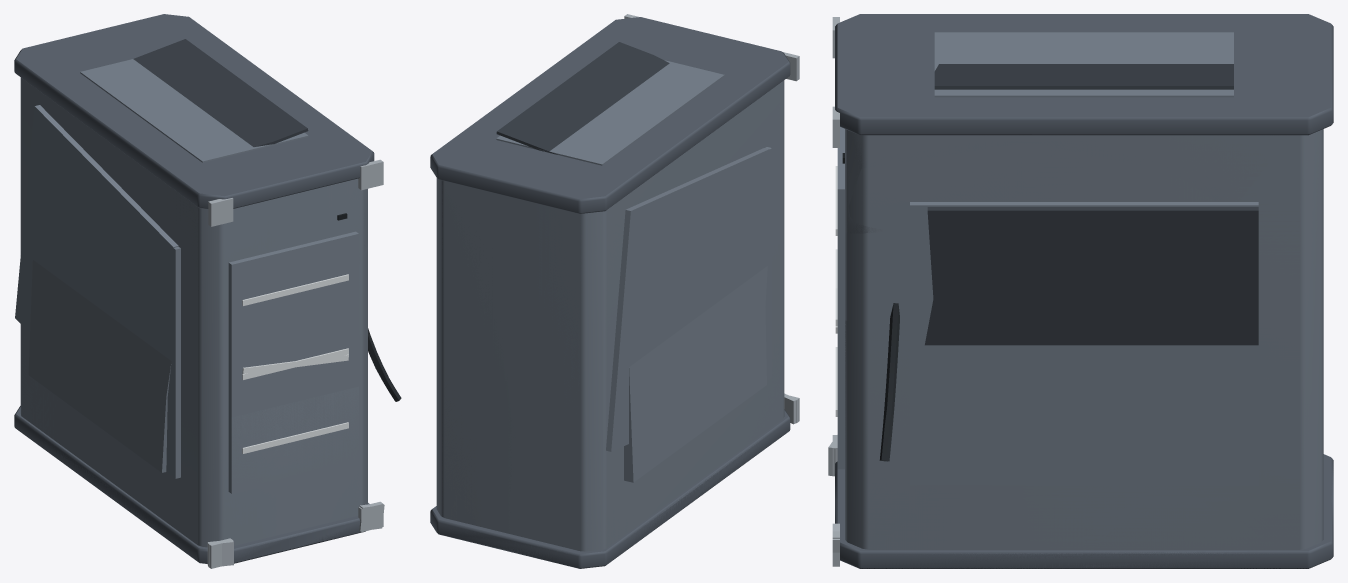
File: shr_cmp_generic_block_alloy_b.glb
3 views of the same model, side by side, from view 1: azimuth 30°, elevation 25°; view 2: azimuth 150°, elevation 25°; view 3: azimuth 270°, elevation 25° (orthographic). The views are drawn at different scales.
Parts seen in each view (by area): view 1: mesh_heavy, mesh_intact, mesh_light; view 2: mesh_heavy, mesh_light, mesh_intact; view 3: mesh_heavy, mesh_intact, mesh_light.
Part boxes in pixels (<box>): mesh_heavy: <box>14,14,401,567</box>; mesh_intact: <box>33,59,367,568</box>; mesh_light: <box>15,83,384,562</box>; mesh_heavy: <box>430,14,797,568</box>; mesh_light: <box>433,80,789,567</box>; mesh_intact: <box>496,52,799,481</box>; mesh_heavy: <box>828,14,1333,568</box>; mesh_intact: <box>832,17,1299,549</box>; mesh_light: <box>832,130,1333,568</box>.
Bounding box in the file's own units: 0.4967 × 0.8189 × 0.8108.
